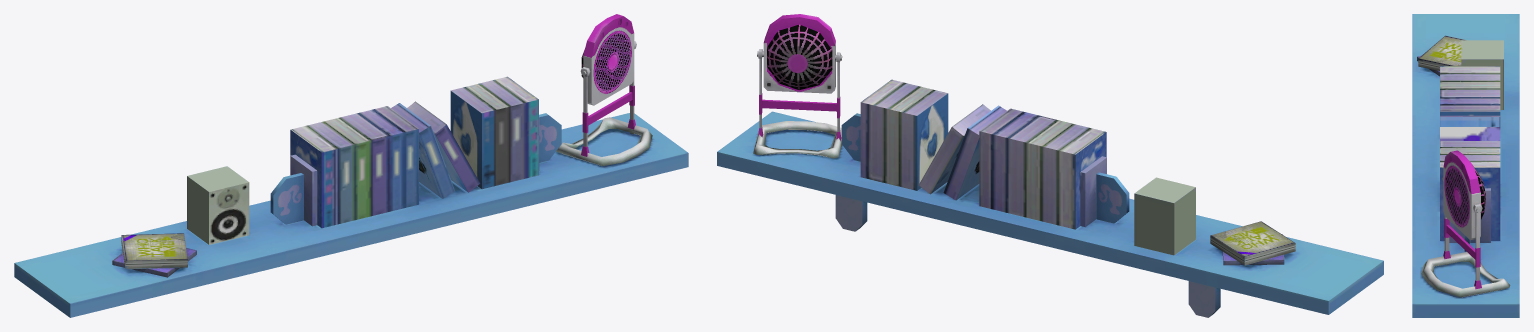
Rendered from furni_0200141_03.FBX.
The picture shows the model from 3 angles, left to right: view 1: azimuth 30°, elevation 25°; view 2: azimuth 150°, elevation 25°; view 3: azimuth 270°, elevation 25°; orthographic projection. The views are drawn at different scales.
Parts seen in each view (by area): view 1: furni_0200141_03; view 2: furni_0200141_03; view 3: furni_0200141_03.
Boxes of the visible parts, x1,y1,x2,y2 form: furni_0200141_03: (14, 14, 688, 317); furni_0200141_03: (717, 14, 1383, 317); furni_0200141_03: (1412, 14, 1519, 317).
Bounding box in the file's own units: 160 × 43.33 × 25.
Materials: 1 (1 with a texture image).
